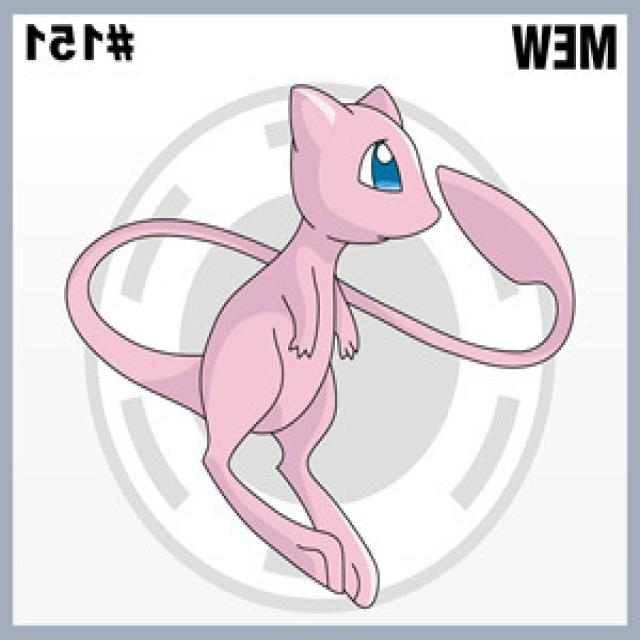Mew: (244, 84, 431, 452)
